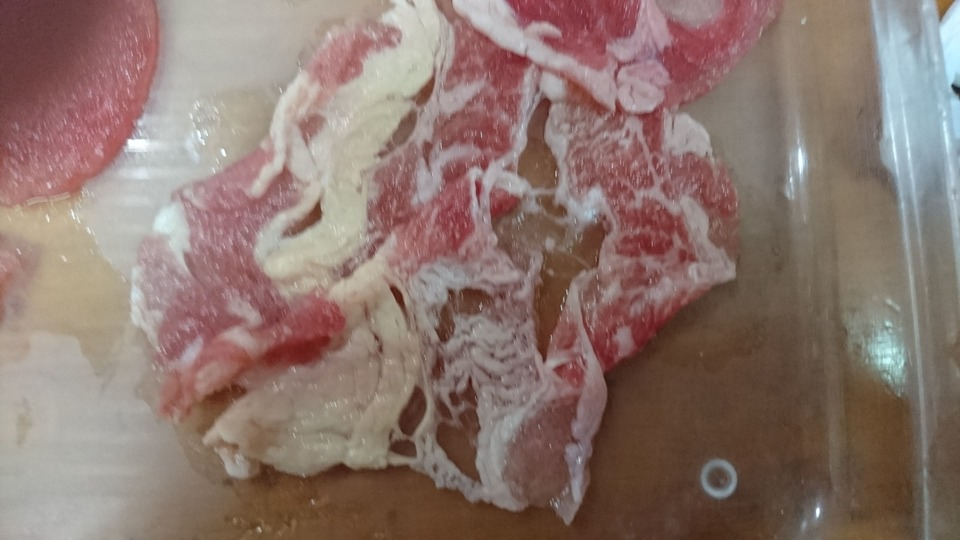restructured meat: (158, 1, 782, 495), (3, 1, 149, 217)
